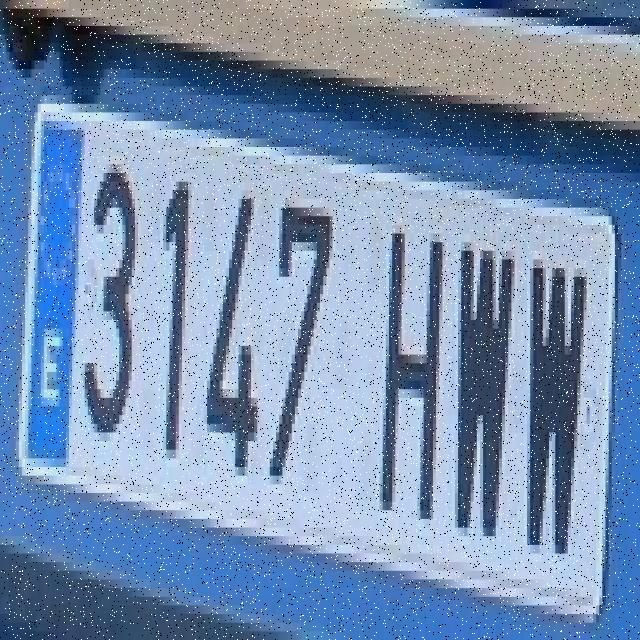licenseplate: (14, 63, 618, 619)
